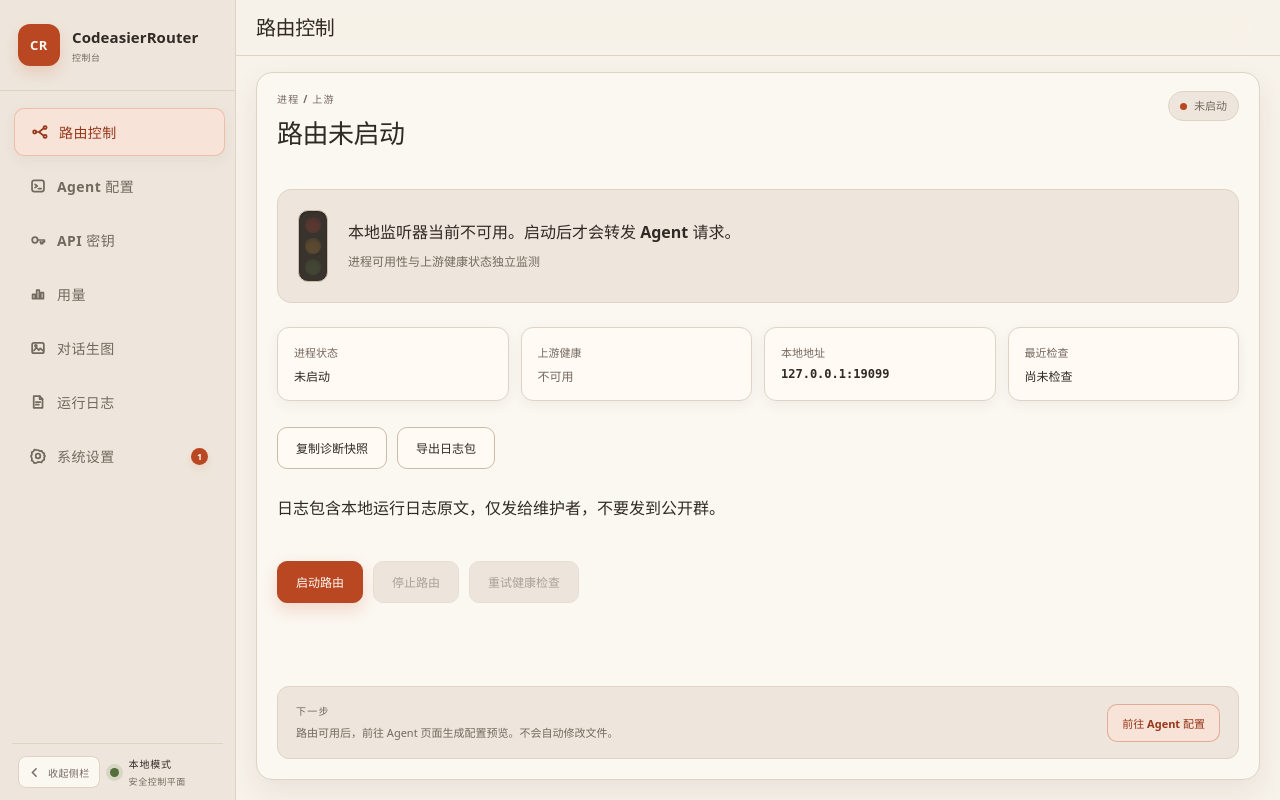
Scenario: App navigation › checks once on startup and surfaces an accessible sidebar update badge
What coordinates should you click on to do the following:
click the button with aria-label "系统设置 - 有新版本可用"
I would click on:
 (118, 456)
Its box is [12, 432, 223, 480].
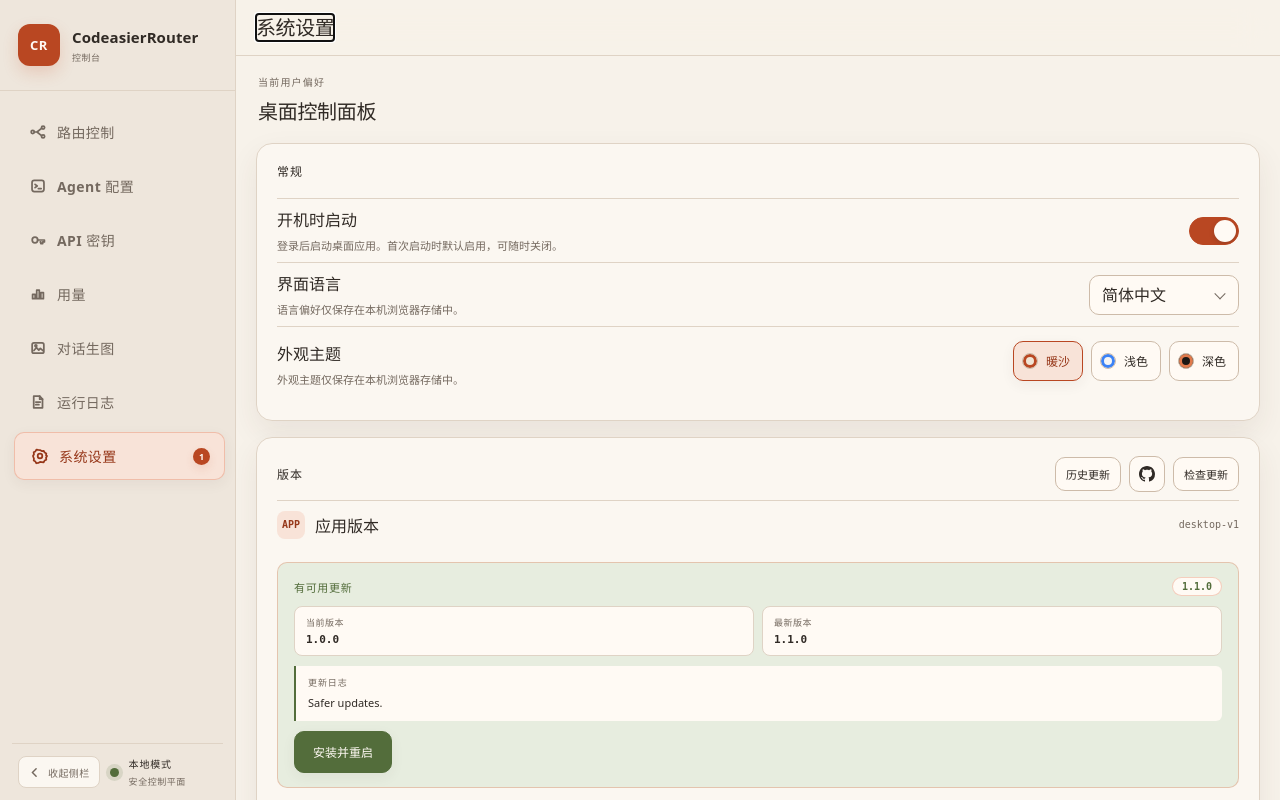
expect the heading "系统设置" is shown: met, box [256, 16, 334, 39]
expect the text "Safer updates." is shown: met, box [308, 695, 382, 710]
